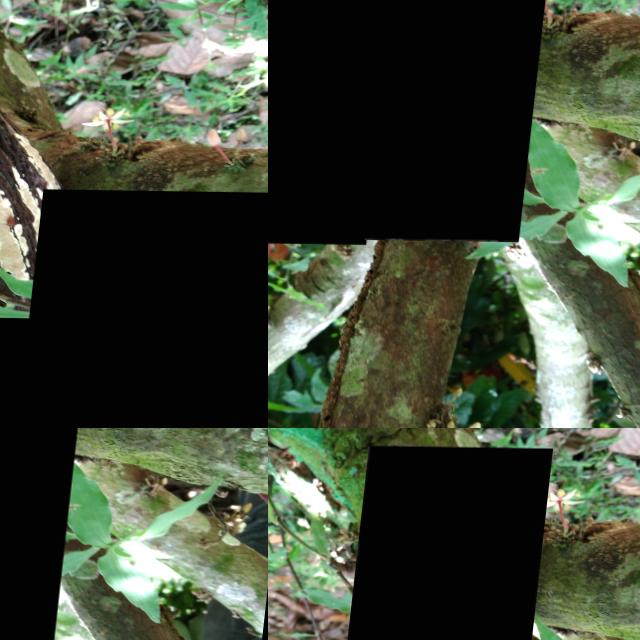Fitoftora: (16, 188, 268, 428), (0, 316, 110, 428)
Monilia: (346, 445, 555, 640), (268, 0, 406, 244), (0, 428, 97, 640), (268, 449, 337, 523)
Sana: (373, 0, 560, 240), (551, 116, 623, 216), (473, 311, 502, 330), (344, 361, 364, 376)
